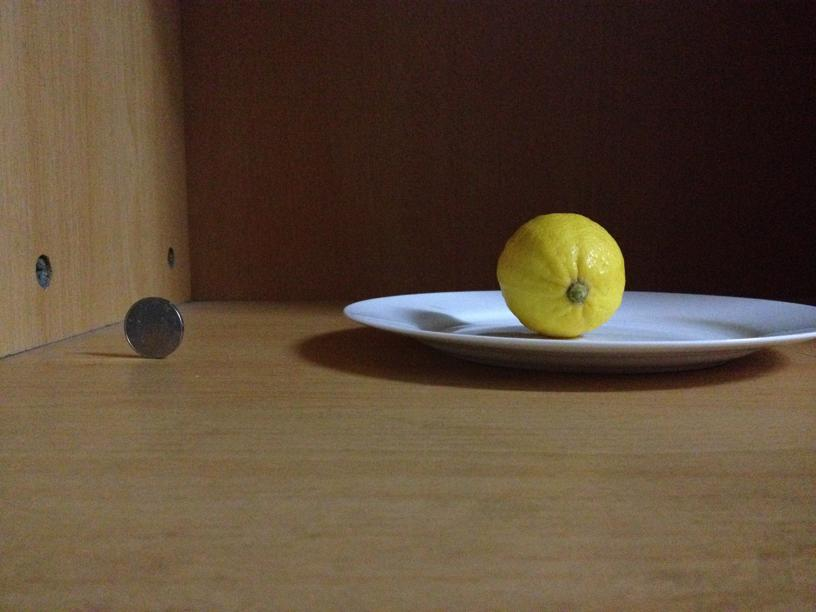coin: (120, 295, 182, 358)
lemon: (491, 214, 625, 338)
